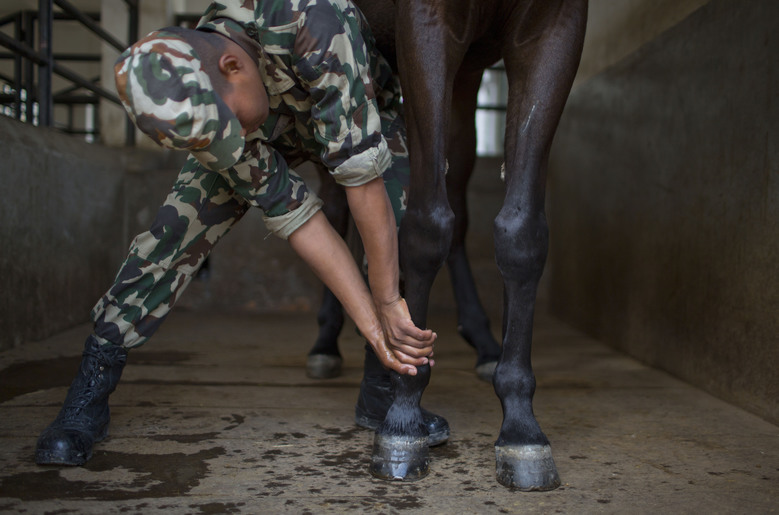human: (36, 1, 441, 482)
